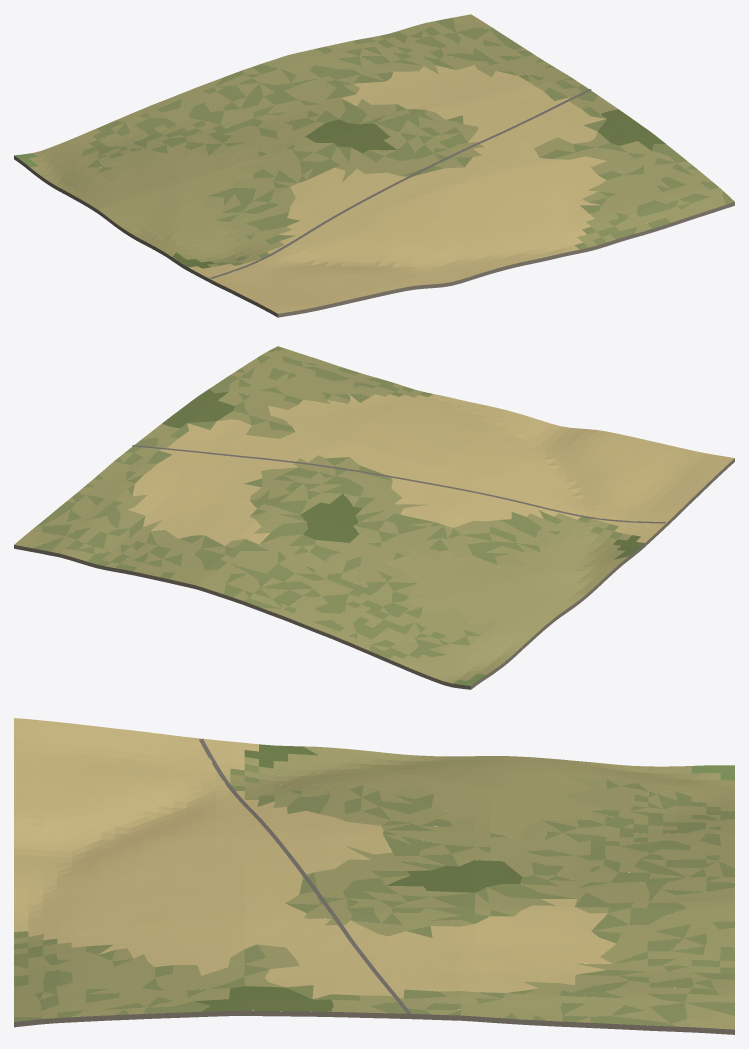
Rendered from parca_+1_-2-uzak.glb.
The picture shows the model from 3 angles, top to bottom: view 1: azimuth 30°, elevation 25°; view 2: azimuth 150°, elevation 25°; view 3: azimuth 270°, elevation 25°; orthographic projection. The views are drawn at different scales.
Parts seen in each view (by area): view 1: parca_+1_-2_arazi_uzak, parca_+1_-2_yollar_uzak; view 2: parca_+1_-2_arazi_uzak, parca_+1_-2_yollar_uzak; view 3: parca_+1_-2_arazi_uzak, parca_+1_-2_yollar_uzak.
Boxes of the visible parts, x1=… form: parca_+1_-2_arazi_uzak: x1=14, y1=14, x2=734, y2=317; parca_+1_-2_yollar_uzak: x1=210, y1=89, x2=591, y2=278; parca_+1_-2_arazi_uzak: x1=14, y1=346, x2=734, y2=689; parca_+1_-2_yollar_uzak: x1=132, y1=445, x2=665, y2=523; parca_+1_-2_arazi_uzak: x1=14, y1=718, x2=734, y2=1034; parca_+1_-2_yollar_uzak: x1=199, y1=739, x2=411, y2=1014.
Bounding box in the file's own units: 1003 × 103 × 1000.
